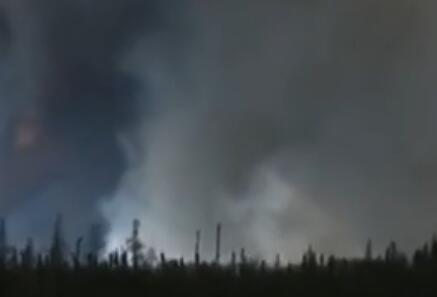yanwu: (1, 0, 411, 264)
